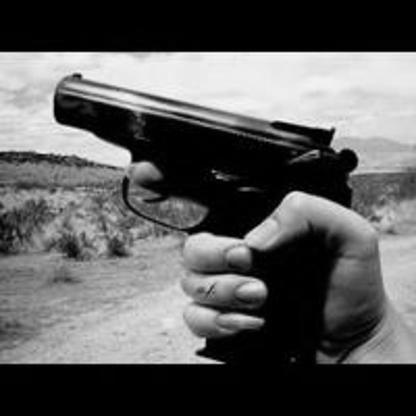weapon: (52, 68, 361, 362)
